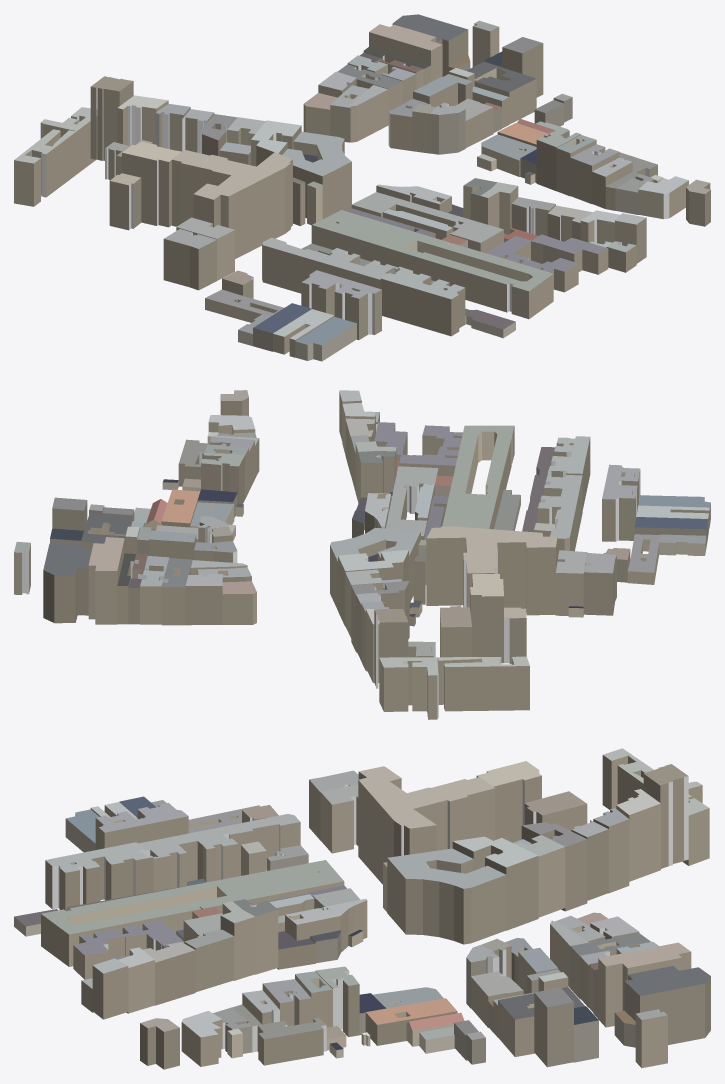
The picture shows the model from 3 angles, top to bottom: view 1: azimuth 30°, elevation 25°; view 2: azimuth 150°, elevation 25°; view 3: azimuth 270°, elevation 25°; orthographic projection. The views are drawn at different scales.
Visible parts, largest first — view 1: tuile; view 2: tuile; view 3: tuile.
Part boxes in pixels (x1,y1,x2,y2): tuile: (14,14,710,361); tuile: (14,390,710,719); tuile: (14,748,710,1069).
Bounding box in the file's own units: 281 × 42.11 × 292.
